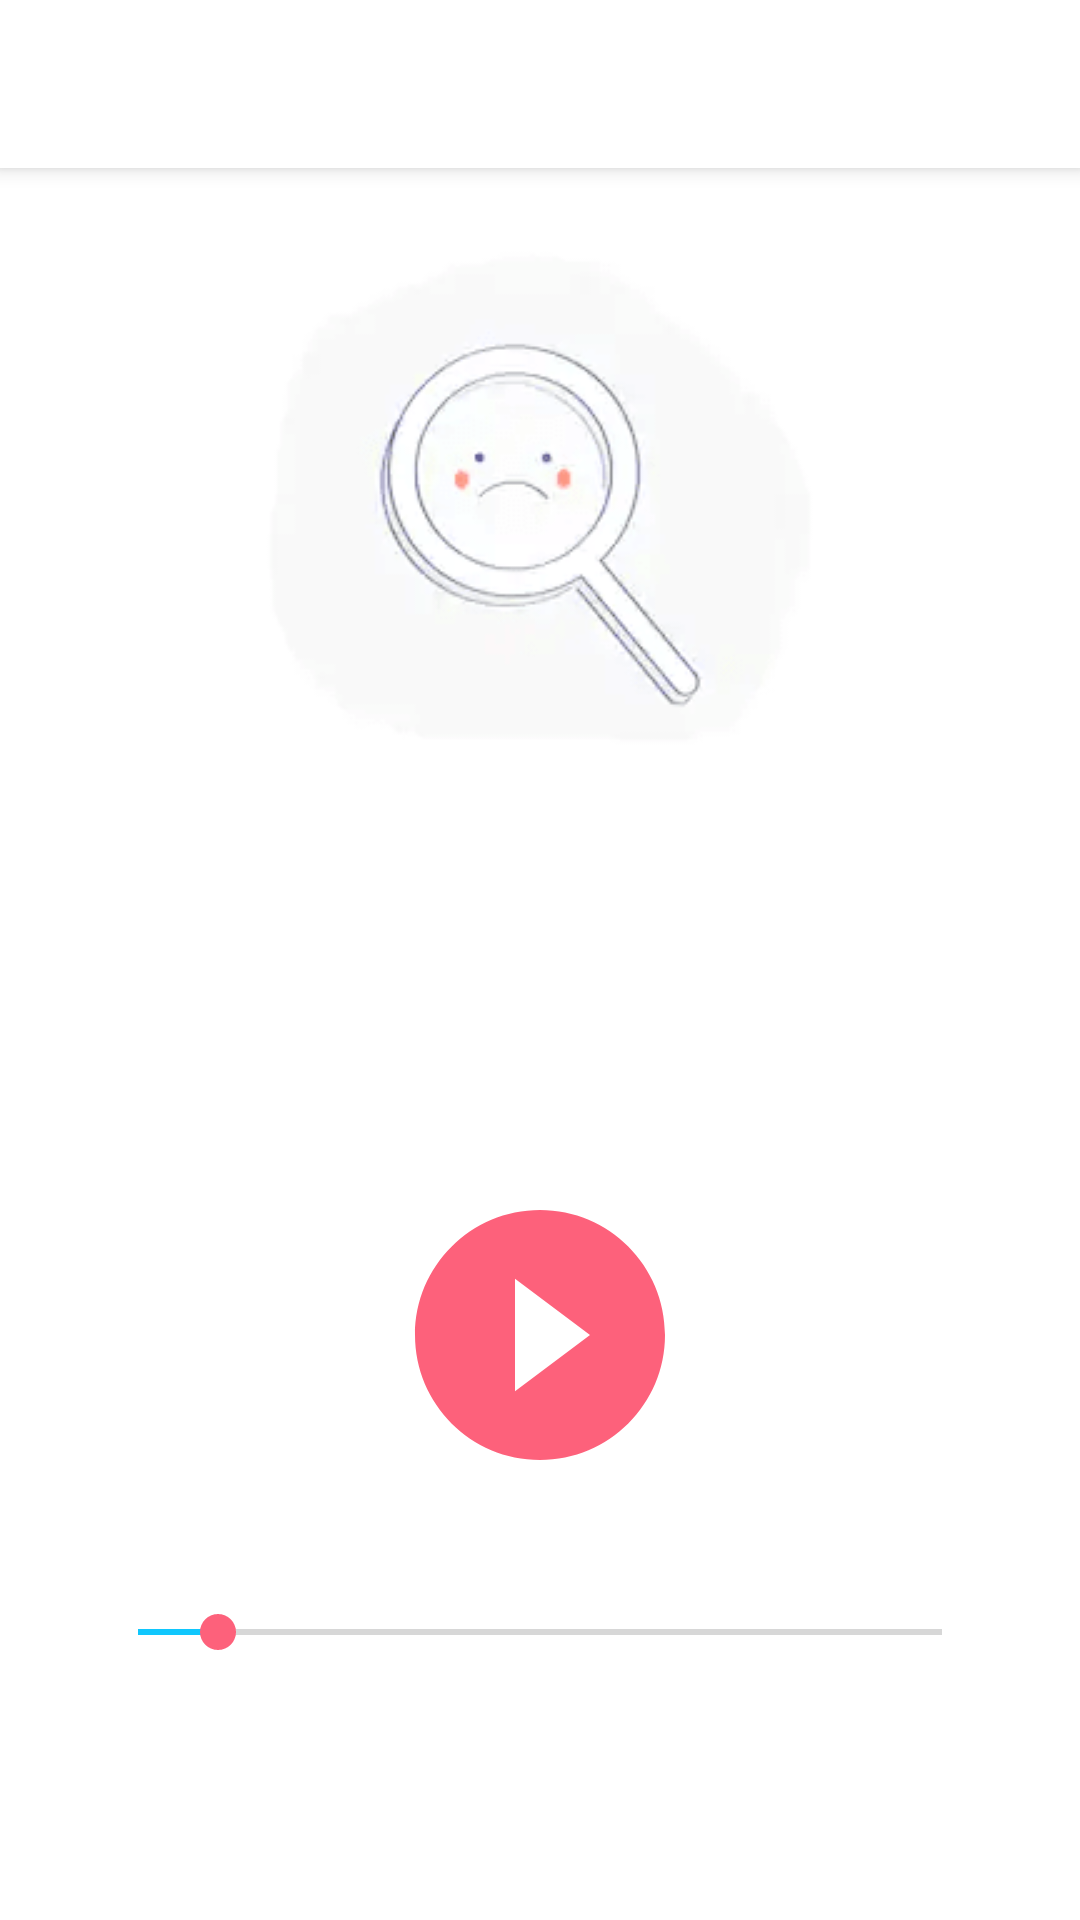

Icon bounding boxes for this 1080px×1920px phone screenshot, format (x1, y1, x2, y2):
play circle: (415, 1210, 665, 1460)
